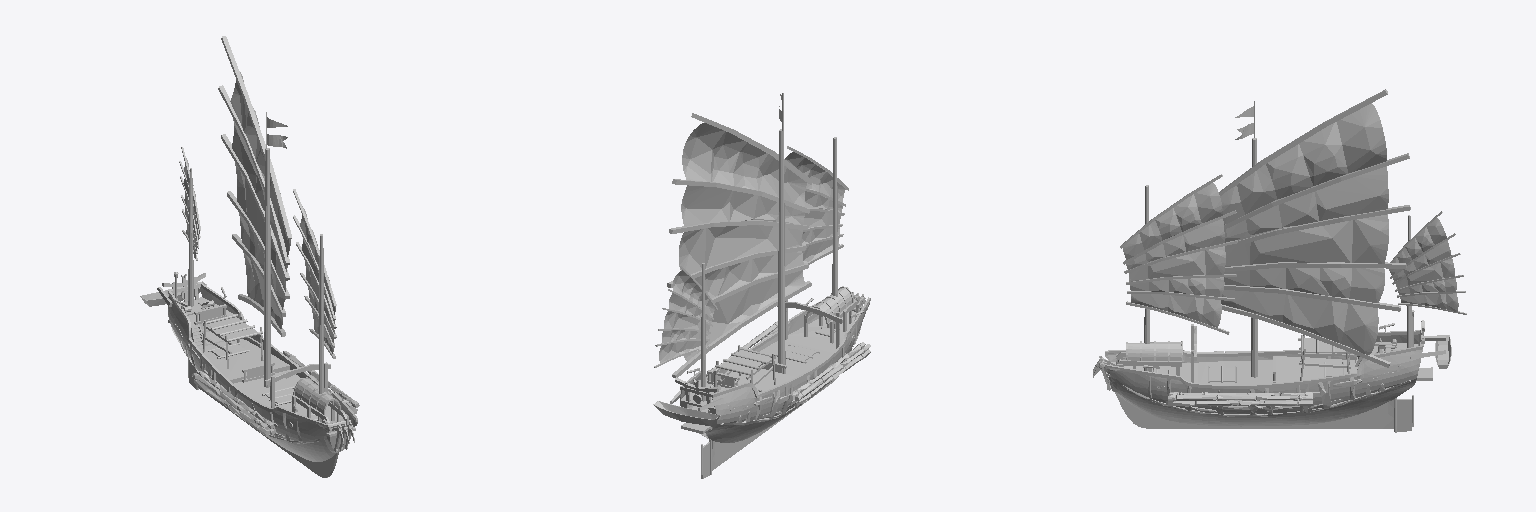
Rendered from ship.obj.
3 views of the same model, side by side, from view 1: azimuth 30°, elevation 25°; view 2: azimuth 150°, elevation 25°; view 3: azimuth 270°, elevation 25° (orthographic).
Visible parts, largest first — view 1: MED-BOAT; view 2: MED-BOAT; view 3: MED-BOAT.
Boxes of the visible parts, x1=… form: MED-BOAT: x1=140, y1=36, x2=359, y2=477; MED-BOAT: x1=653, y1=93, x2=870, y2=478; MED-BOAT: x1=1093, y1=89, x2=1466, y2=432.
Size of the model in its own units: 4.19 by 14.61 by 14.04.